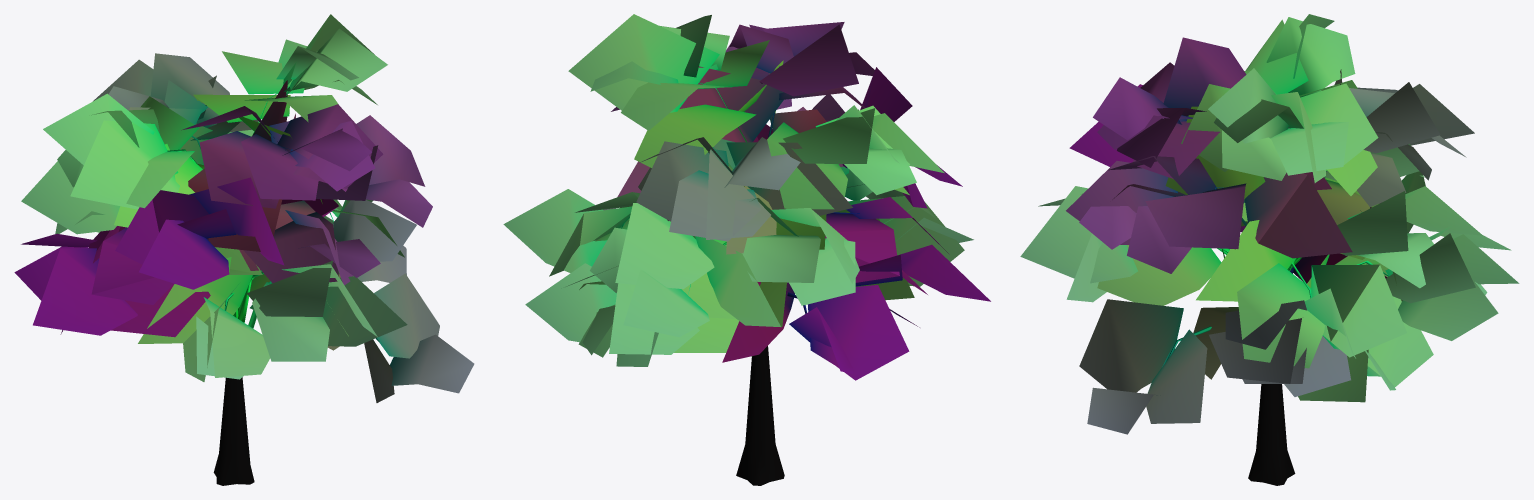
Rendered from SM_Mobile12_1.fbx.
3 renders of one model, left to right at view 1: azimuth 30°, elevation 25°; view 2: azimuth 150°, elevation 25°; view 3: azimuth 270°, elevation 25°, orthographic. The views are drawn at different scales.
Visible parts, largest first — view 1: SM_Mobile12_1; view 2: SM_Mobile12_1; view 3: SM_Mobile12_1.
Part boxes in pixels (bbox=[...]): SM_Mobile12_1: bbox=[14, 14, 474, 485]; SM_Mobile12_1: bbox=[503, 14, 990, 485]; SM_Mobile12_1: bbox=[1020, 14, 1519, 485].
Bounding box in the file's own units: 1464 × 1422 × 1466.
